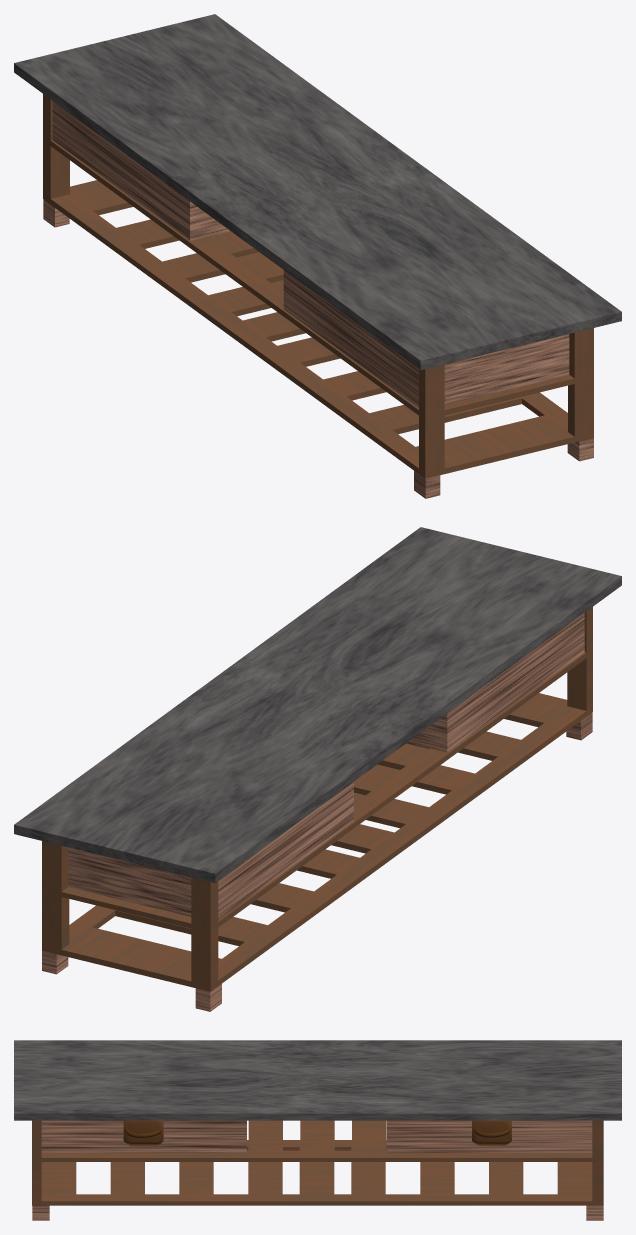
The model's file is tv_stand_original_revamp.fbx.
The picture shows the model from 3 angles, top to bottom: view 1: azimuth 30°, elevation 25°; view 2: azimuth 150°, elevation 25°; view 3: azimuth 270°, elevation 25°; orthographic projection. The views are drawn at different scales.
Visible parts, largest first — view 1: Cube.012; view 2: Cube.012; view 3: Cube.012.
Boxes of the visible parts, x1,y1,x2,y2 form: Cube.012: (14, 14, 621, 498); Cube.012: (14, 527, 621, 1011); Cube.012: (14, 1040, 621, 1220).
Bounding box in the file's own units: 521 × 374 × 1826.
Materials: 1 (1 with a texture image).
